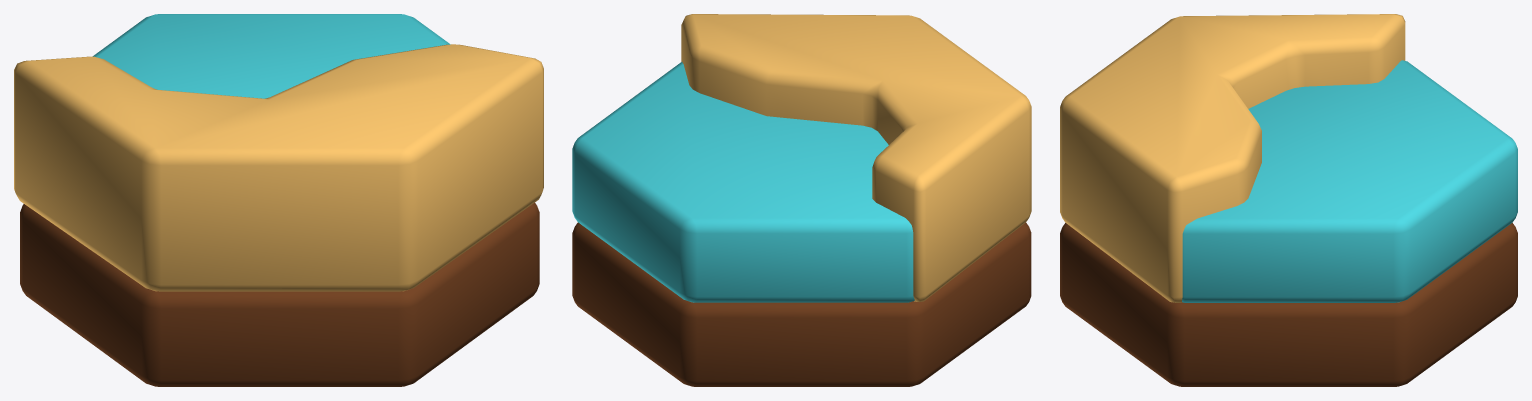
File: ground_water_border2.glb
The picture shows the model from 3 angles, left to right: view 1: azimuth 30°, elevation 25°; view 2: azimuth 150°, elevation 25°; view 3: azimuth 270°, elevation 25°; orthographic projection. The views are drawn at different scales.
Visible parts, largest first — view 1: ground_water_border2; view 2: ground_water_border2; view 3: ground_water_border2.
Part boxes in pixels (left/top/right/bottom): ground_water_border2: left=14, top=14, right=543, bottom=386; ground_water_border2: left=572, top=14, right=1031, bottom=386; ground_water_border2: left=1060, top=14, right=1517, bottom=386.
Size of the model in its own units: 7.04 by 4 by 7.9.
